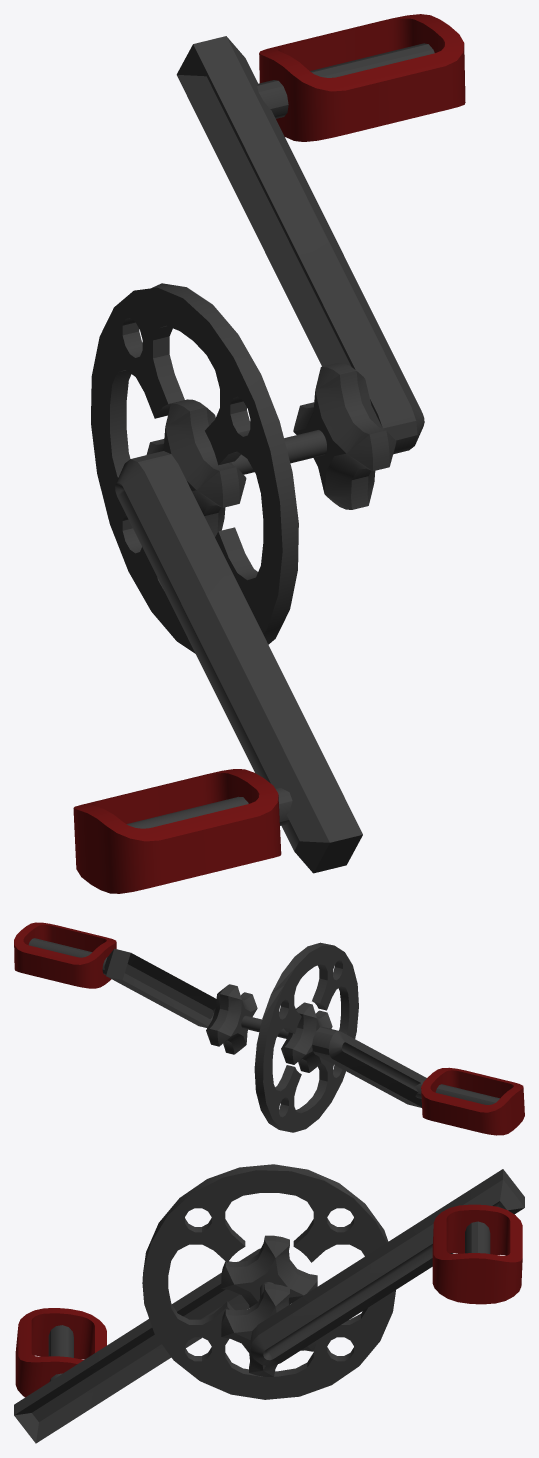
The model's file is Pedals.fbx.
3 views of the same model, one above another, from view 1: azimuth 30°, elevation 25°; view 2: azimuth 150°, elevation 25°; view 3: azimuth 270°, elevation 25° (orthographic). The views are drawn at different scales.
Parts seen in each view (by area): view 1: Pedals; view 2: Pedals; view 3: Pedals.
Part boxes in pixels (bbox=[...]): Pedals: bbox=[73, 14, 465, 893]; Pedals: bbox=[14, 922, 524, 1135]; Pedals: bbox=[14, 1164, 524, 1443].
Bounding box in the file's own units: 40.62 × 29.91 × 40.81.
